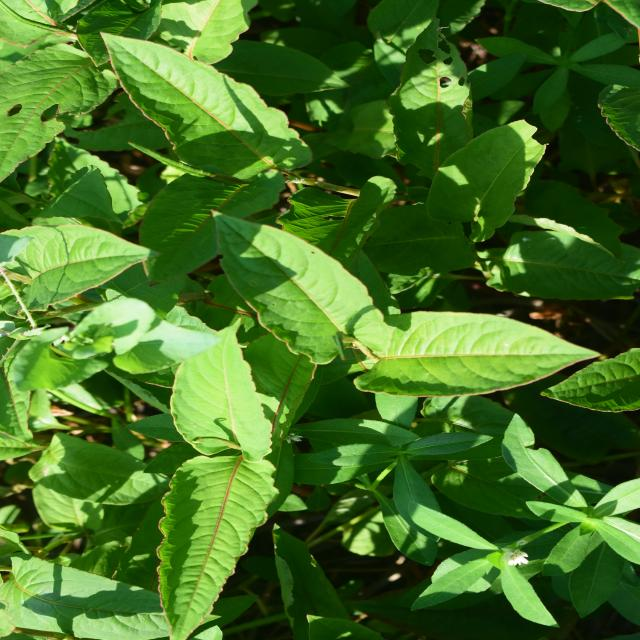Chinese_knotweed: (222, 239, 419, 579), (15, 116, 305, 305)
